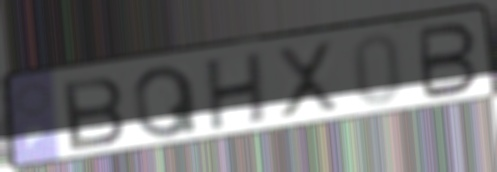0: (347, 30, 407, 110)
B: (59, 73, 129, 154), (416, 20, 481, 102)
H: (204, 48, 269, 135)
Q: (130, 62, 203, 141)
X: (273, 38, 343, 121)
